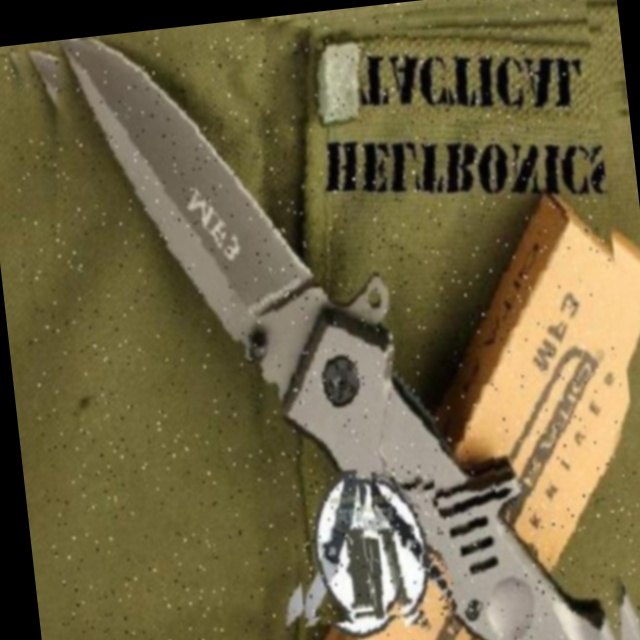Sharp-Object: (0, 0, 640, 640), (289, 469, 374, 618), (371, 463, 450, 616)
